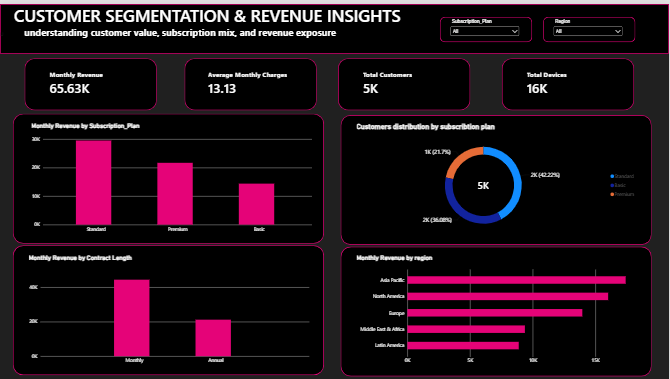

What the dashboard file says about the page in this screenshot:
{"tool":"powerbi","page":{"name":"Page 3","canvas":[1920,1080],"ordinal":2},"visuals":[{"type":"shape","box":[0,0,1920,143.3],"z":0},{"type":"textbox","box":[0,0,1920,126.7],"z":1000},{"type":"shape","box":[71.9,155.6,380,150],"z":2000},{"type":"shape","box":[1441.9,155.6,380,150],"z":3000},{"type":"shape","box":[971.9,155.6,380,150],"z":4000},{"type":"shape","box":[528.5,155.6,380,150],"z":5000},{"type":"shape","box":[36,313.3,893.3,373.3],"z":6000},{"type":"shape","box":[36,693.3,893.3,373.3],"z":7000},{"type":"shape","box":[979.3,696.7,893.3,373.3],"z":8000},{"type":"shape","box":[979.3,316.7,893.3,373.3],"z":9000},{"type":"shape","box":[1263.8,37.8,264.8,73],"z":10000},{"type":"shape","box":[1558.4,37.8,264.8,73],"z":11000},{"type":"cardVisual","fields":{"Data":["OTT_Customer_Churn_5000.Monthly Revenue"]},"box":[124.3,167.6,273,124.3],"z":12000},{"type":"cardVisual","fields":{"Data":["OTT_Customer_Churn_5000.Total Devices"]},"box":[1497.3,167.6,273,124.3],"z":13000},{"type":"cardVisual","fields":{"Data":["OTT_Customer_Churn_5000.Total Customers"]},"box":[1024.3,167.6,273,124.3],"z":14000},{"type":"cardVisual","fields":{"Data":["OTT_Customer_Churn_5000.Average Monthly Charges"]},"box":[581.1,167.6,273,124.3],"z":15000},{"type":"clusteredColumnChart","fields":{"Category":["OTT_Customer_Churn_5000.Subscription_Plan"],"Y":["OTT_Customer_Churn_5000.Monthly Revenue"]},"box":[73,324.3,837.8,351.4],"z":16000},{"type":"donutChart","title":"Customers distribution by subscribtion plan","fields":{"Category":["OTT_Customer_Churn_5000.Subscription_Plan"],"Y":["OTT_Customer_Churn_5000.Total Customers"]},"box":[1008.1,327,837.8,351.4],"z":17000},{"type":"clusteredColumnChart","title":"Monthly Revenue by Contract Length","fields":{"Category":["OTT_Customer_Churn_5000.Contract_Length"],"Y":["OTT_Customer_Churn_5000.Monthly Revenue"]},"box":[64.9,705.4,837.8,351.4],"z":18000},{"type":"clusteredBarChart","title":"Monthly Revenue by region","fields":{"Category":["OTT_Customer_Churn_5000.Region"],"Y":["OTT_Customer_Churn_5000.Monthly Revenue"]},"box":[1008.1,705.4,837.8,351.4],"z":19000},{"type":"slicer","fields":{"Values":["OTT_Customer_Churn_5000.Subscription_Plan"]},"box":[1289.8,42.4,206.8,72.9],"z":20000},{"type":"slicer","fields":{"Values":["OTT_Customer_Churn_5000.Region"]},"box":[1586.4,40.7,206.8,72.9],"z":21000}]}

Visuals, with their boxes in screenshot pixels (x1, y1, x2, y2), scaled from the page's 1920x1080 canvas onto the 670x379 screenshot:
shape: {"left": 0, "top": 0, "right": 669, "bottom": 50}
textbox: {"left": 0, "top": 0, "right": 669, "bottom": 44}
shape: {"left": 25, "top": 55, "right": 158, "bottom": 107}
shape: {"left": 503, "top": 55, "right": 636, "bottom": 107}
shape: {"left": 339, "top": 55, "right": 472, "bottom": 107}
shape: {"left": 184, "top": 55, "right": 317, "bottom": 107}
shape: {"left": 13, "top": 110, "right": 324, "bottom": 241}
shape: {"left": 13, "top": 243, "right": 324, "bottom": 374}
shape: {"left": 342, "top": 244, "right": 653, "bottom": 375}
shape: {"left": 342, "top": 111, "right": 653, "bottom": 242}
shape: {"left": 441, "top": 13, "right": 533, "bottom": 39}
shape: {"left": 544, "top": 13, "right": 636, "bottom": 39}
cardVisual - OTT_Customer_Churn_5000.Monthly Revenue: {"left": 43, "top": 59, "right": 139, "bottom": 102}
cardVisual - OTT_Customer_Churn_5000.Total Devices: {"left": 522, "top": 59, "right": 618, "bottom": 102}
cardVisual - OTT_Customer_Churn_5000.Total Customers: {"left": 357, "top": 59, "right": 453, "bottom": 102}
cardVisual - OTT_Customer_Churn_5000.Average Monthly Charges: {"left": 203, "top": 59, "right": 298, "bottom": 102}
clusteredColumnChart - OTT_Customer_Churn_5000.Subscription_Plan x OTT_Customer_Churn_5000.Monthly Revenue: {"left": 25, "top": 114, "right": 318, "bottom": 237}
"Customers distribution by subscribtion plan" donutChart: {"left": 352, "top": 115, "right": 644, "bottom": 238}
"Monthly Revenue by Contract Length" clusteredColumnChart: {"left": 23, "top": 248, "right": 315, "bottom": 371}
"Monthly Revenue by region" clusteredBarChart: {"left": 352, "top": 248, "right": 644, "bottom": 371}
slicer - OTT_Customer_Churn_5000.Subscription_Plan: {"left": 450, "top": 15, "right": 522, "bottom": 40}
slicer - OTT_Customer_Churn_5000.Region: {"left": 554, "top": 14, "right": 626, "bottom": 40}
